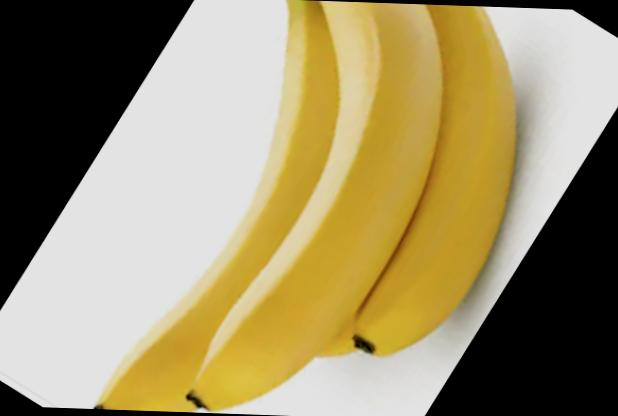Banana Ripe: (84, 0, 549, 416)
